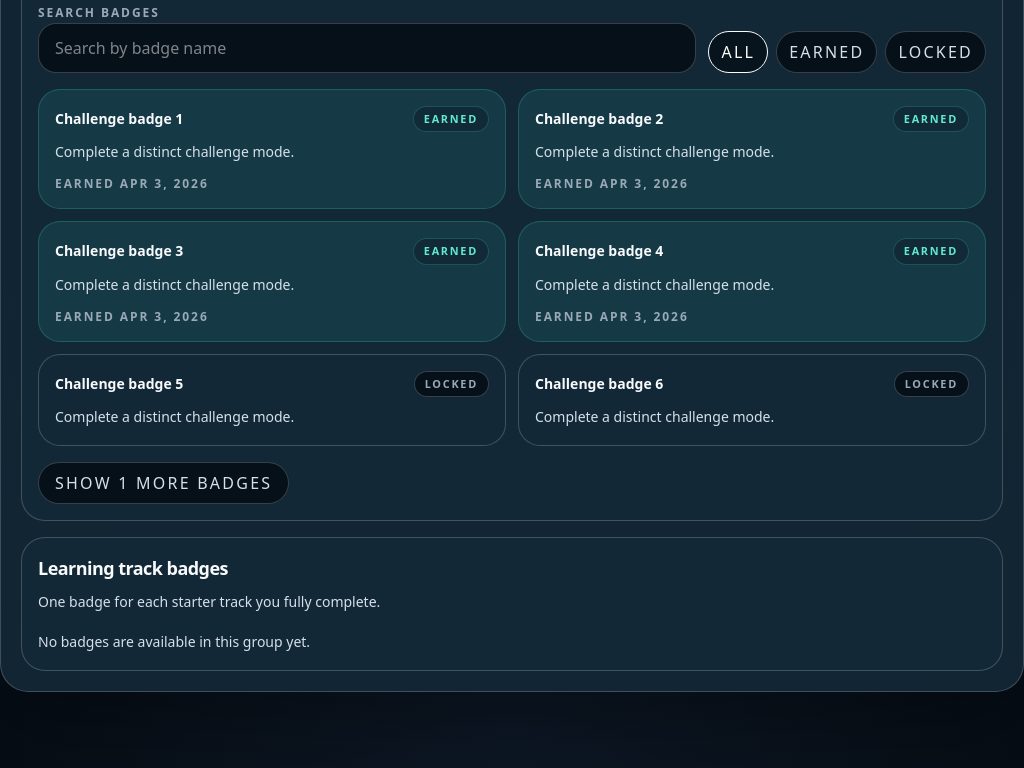
Test: AchievementsSection › does not show a reward CTA for premium-ineligible accounts and collapses long badge lists
(page scrolled)
Step 1. Click the button "Show 1 more badges" → (164, 483), box x1=38 y1=462 x2=289 y2=504
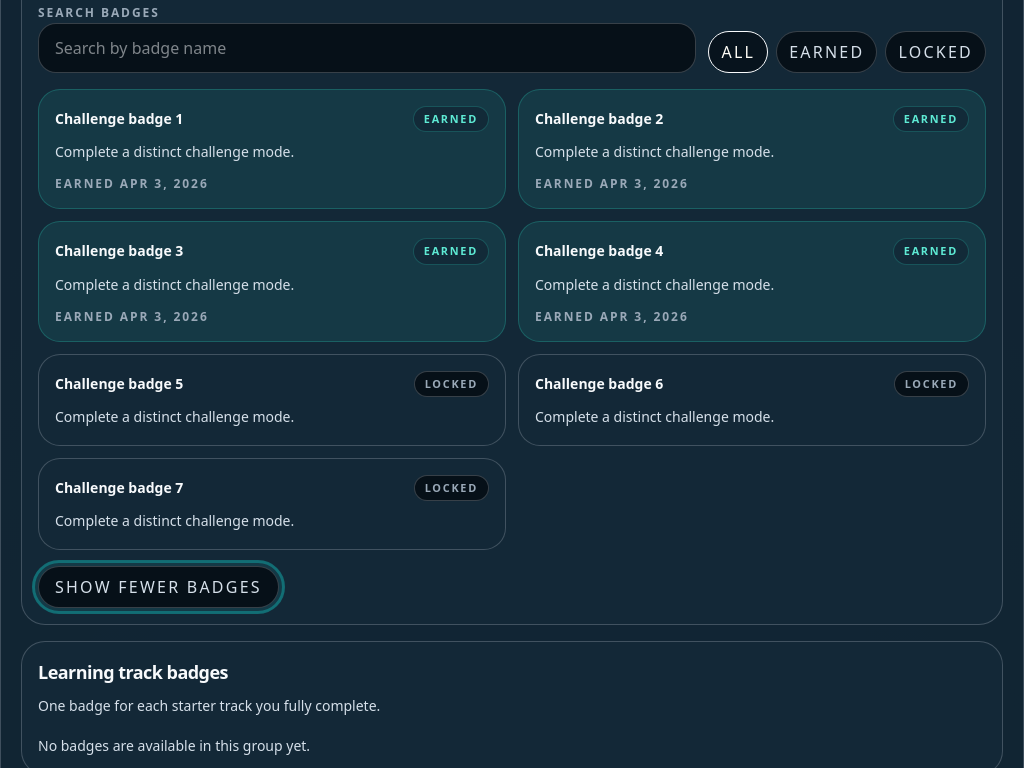
Expected: the text "No badges are available in this group yet." is shown, x1=38 y1=736 x2=310 y2=755
Expected: the button "Show fewer badges" is shown
Expected: the text "Challenge badge 7" is shown, x1=55 y1=478 x2=183 y2=498
Step 2. Click the button "Show fewer badges" → (158, 587), box x1=38 y1=566 x2=279 y2=608
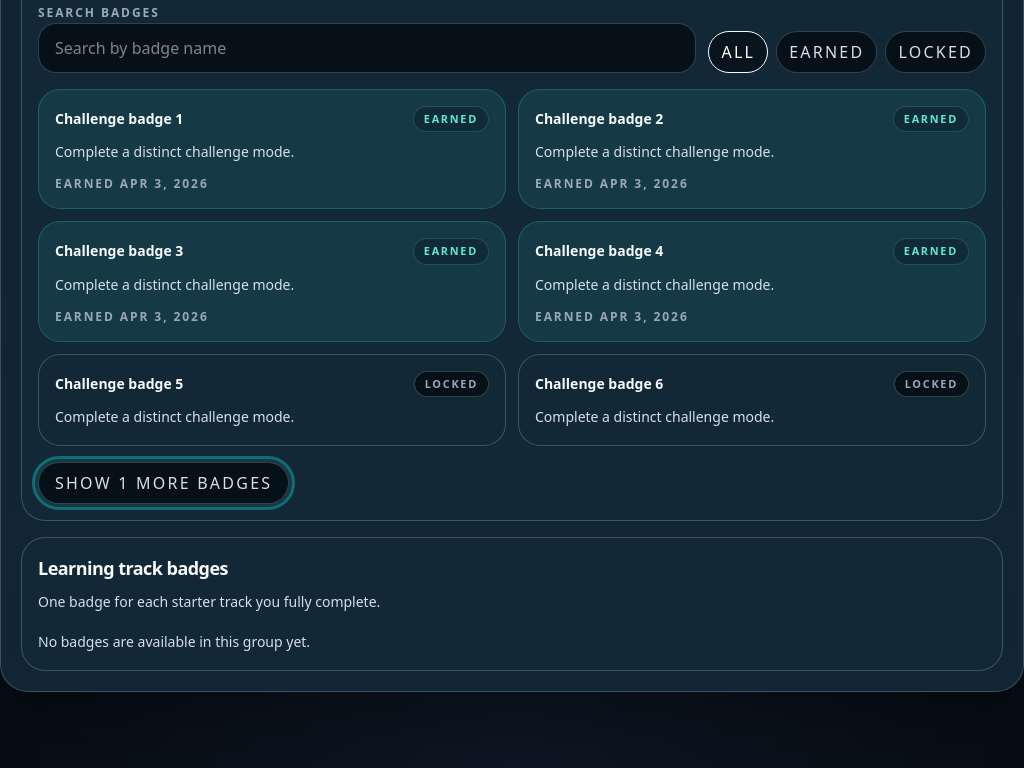
Expected: the button "Show 1 more badges" is shown, x1=38 y1=462 x2=289 y2=504
